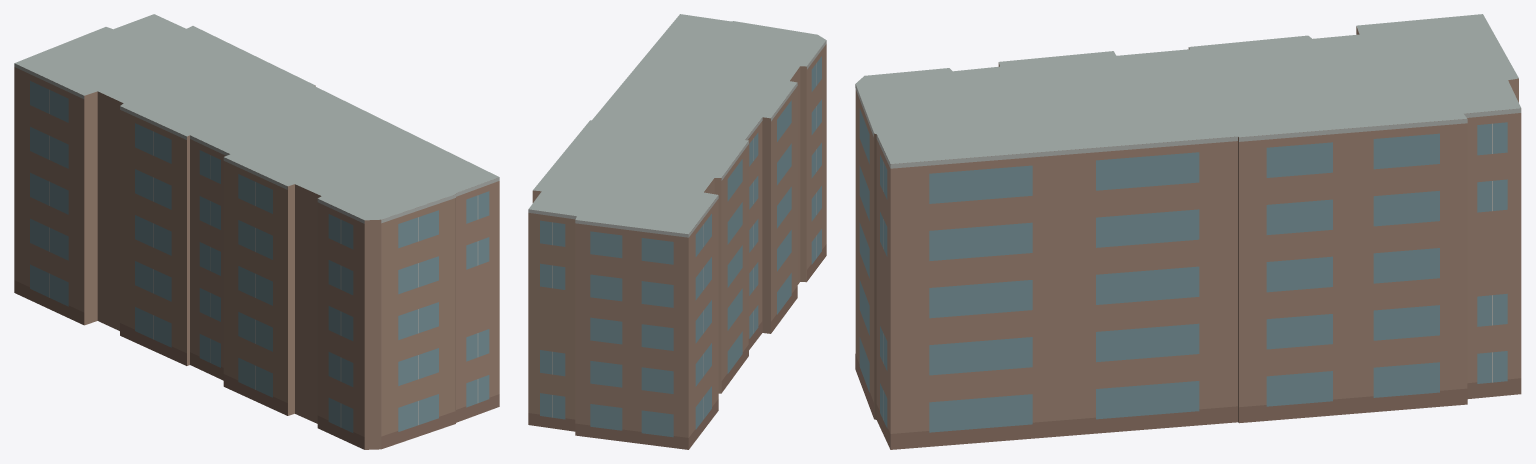
The model's file is survey-upis-32634492.glb.
3 views of the same model, side by side, from view 1: azimuth 30°, elevation 25°; view 2: azimuth 150°, elevation 25°; view 3: azimuth 270°, elevation 25° (orthographic). The views are drawn at different scales.
Parts seen in each view (by area): view 1: survey-upis-32634492.tmp; view 2: survey-upis-32634492.tmp; view 3: survey-upis-32634492.tmp.
Part boxes in pixels (bbox=[...]): survey-upis-32634492.tmp: bbox=[14, 14, 499, 449]; survey-upis-32634492.tmp: bbox=[528, 14, 826, 449]; survey-upis-32634492.tmp: bbox=[855, 14, 1521, 449].
Bounding box in the file's own units: 17.19 × 15.25 × 32.22.
